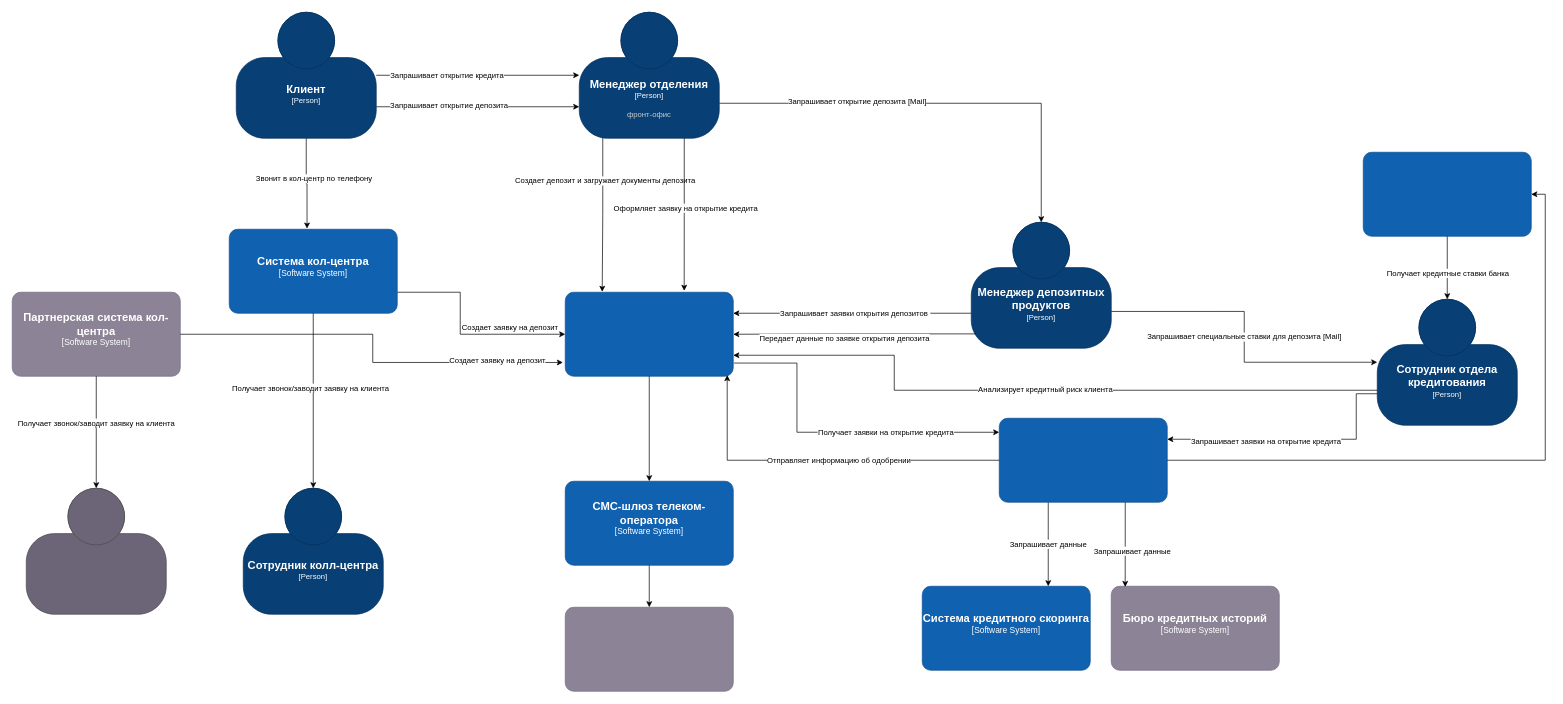
The diagram is 1563 pixels wide and 704 high, and some of its shapes have lost their labels. Here are the shapes that lost their labels. From the top down, the centre of each, then its label:
At (1447,194): "Mail [Software System]".
At (649,334): "АБС [Software System]".
At (1083,460): "Кредитный конвеер [Software System]".
At (96,551): "Сотрудник партнерского кол-центра [Person]".
At (649,649): "Телеком оператор [Software System]".
